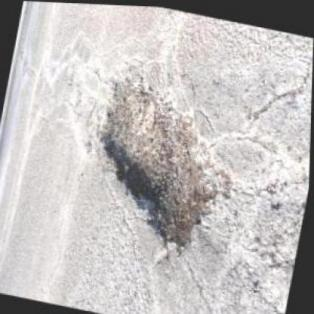Hueco: (77, 61, 246, 259)
